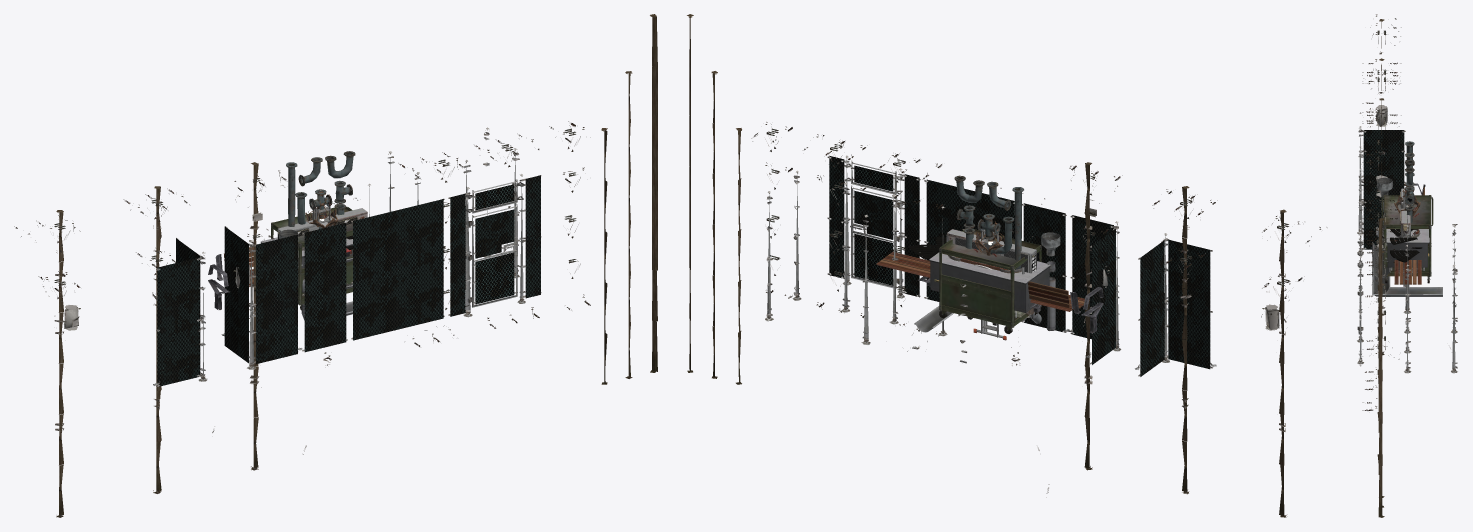
The model's file is ph_extra.glb.
3 views of the same model, side by side, from view 1: azimuth 30°, elevation 25°; view 2: azimuth 150°, elevation 25°; view 3: azimuth 270°, elevation 25° (orthographic). The views are drawn at different scales.
Parts seen in each view (by area): view 1: modular_chainlink_fence, modular_electricity_poles, modular_industrial_pipes_01, industrial_storage_cart, modular_street_seating; view 2: modular_chainlink_fence, modular_electricity_poles, industrial_storage_cart, modular_street_seating, metal_office_desk, modular_industrial_pipes_01, modular_metal_gutter, exterior_aircon_unit; view 3: modular_chainlink_fence, modular_electricity_poles, industrial_storage_cart, modular_metal_gutter, modular_street_seating, metal_office_desk, modular_industrial_pipes_01, exterior_aircon_unit, lantern_chandelier_01.
Part boxes in pixels (bbox=[...]): modular_chainlink_fence: bbox=[153, 127, 541, 387]; modular_electricity_poles: bbox=[14, 14, 657, 517]; modular_industrial_pipes_01: bbox=[286, 151, 355, 229]; industrial_storage_cart: bbox=[271, 206, 352, 310]; modular_street_seating: bbox=[208, 235, 352, 309]; modular_chainlink_fence: bbox=[765, 155, 1216, 376]; modular_electricity_poles: bbox=[687, 14, 1327, 517]; industrial_storage_cart: bbox=[939, 228, 1041, 333]; modular_street_seating: bbox=[876, 236, 1103, 333]; metal_office_desk: bbox=[929, 252, 1050, 317]; modular_industrial_pipes_01: bbox=[954, 175, 1023, 269]; modular_metal_gutter: bbox=[914, 232, 1060, 332]; exterior_aircon_unit: bbox=[946, 229, 1036, 274]; modular_chainlink_fence: bbox=[1357, 112, 1457, 373]; modular_electricity_poles: bbox=[1362, 14, 1450, 517]; industrial_storage_cart: bbox=[1381, 195, 1433, 283]; modular_metal_gutter: bbox=[1372, 177, 1442, 296]; modular_street_seating: bbox=[1390, 183, 1425, 284]; metal_office_desk: bbox=[1385, 229, 1429, 270]; modular_industrial_pipes_01: bbox=[1404, 141, 1414, 231]; exterior_aircon_unit: bbox=[1400, 188, 1415, 238]; lantern_chandelier_01: bbox=[1394, 184, 1420, 216].
Bounding box in the file's own units: 12.99 × 7 × 2.18.
Materials: 75 (74 with a texture image).
